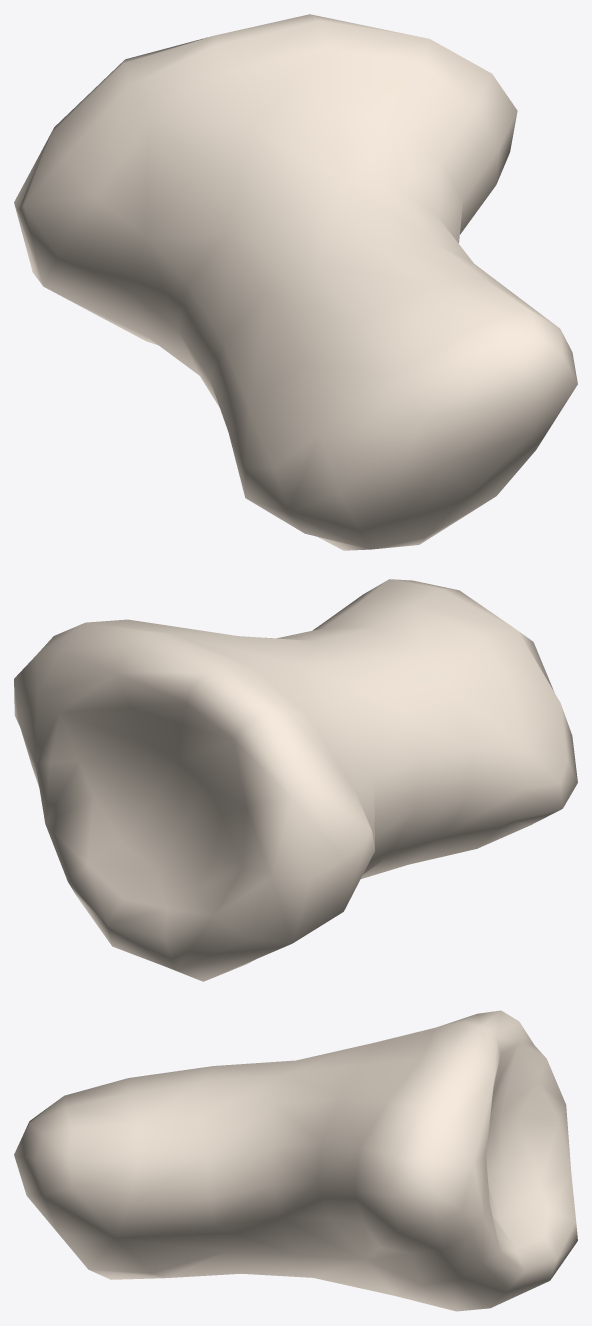
The model's file is right_toe_5_distal.glb.
3 renders of one model, top to bottom at view 1: azimuth 30°, elevation 25°; view 2: azimuth 150°, elevation 25°; view 3: azimuth 270°, elevation 25°, orthographic. The views are drawn at different scales.
Visible parts, largest first — view 1: Distal phalanx of fifth finger of foot.r; view 2: Distal phalanx of fifth finger of foot.r; view 3: Distal phalanx of fifth finger of foot.r.
Boxes of the visible parts, bbox=[...] form: Distal phalanx of fifth finger of foot.r: bbox=[14, 14, 577, 550]; Distal phalanx of fifth finger of foot.r: bbox=[14, 579, 577, 981]; Distal phalanx of fifth finger of foot.r: bbox=[14, 1010, 577, 1311].
Bounding box in the file's own units: 0.00697 × 0.00525 × 0.00992.
